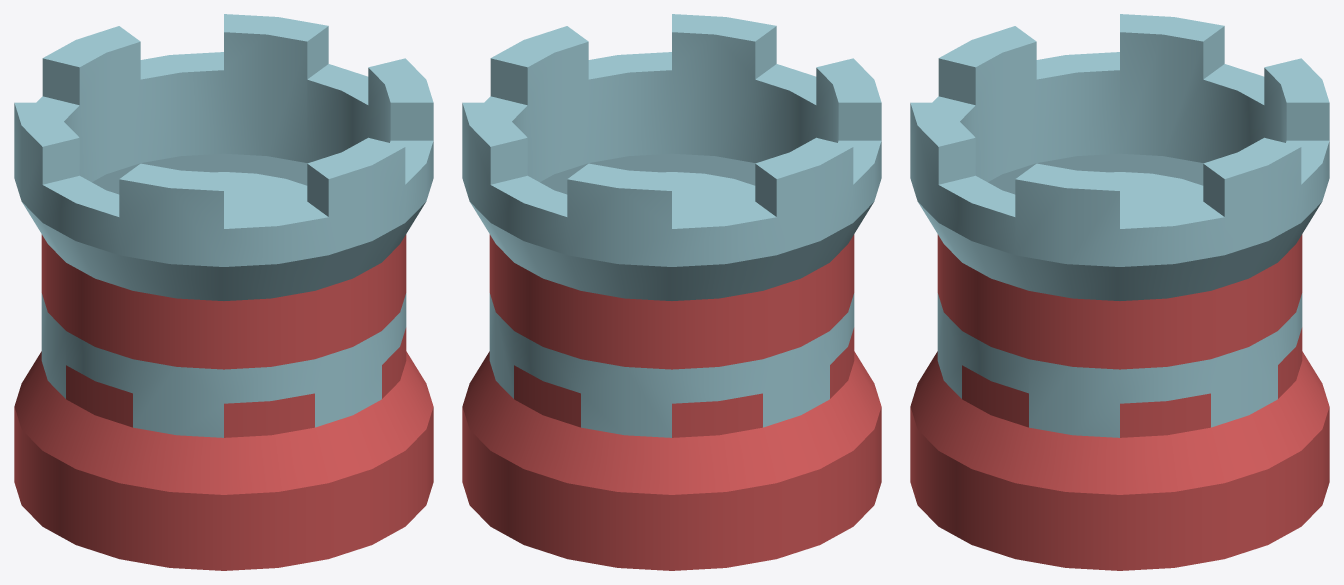
Rendered from towerRound_sampleC.dae.
3 views of the same model, side by side, from view 1: azimuth 30°, elevation 25°; view 2: azimuth 150°, elevation 25°; view 3: azimuth 270°, elevation 25° (orthographic).
Parts seen in each view (by area): view 1: towerRound_sampleC; view 2: towerRound_sampleC; view 3: towerRound_sampleC.
Part boxes in pixels (bbox=[...]): towerRound_sampleC: bbox=[14, 14, 433, 570]; towerRound_sampleC: bbox=[462, 14, 881, 570]; towerRound_sampleC: bbox=[910, 14, 1329, 570].
Size of the model in its own units: 1 by 1 by 1.
